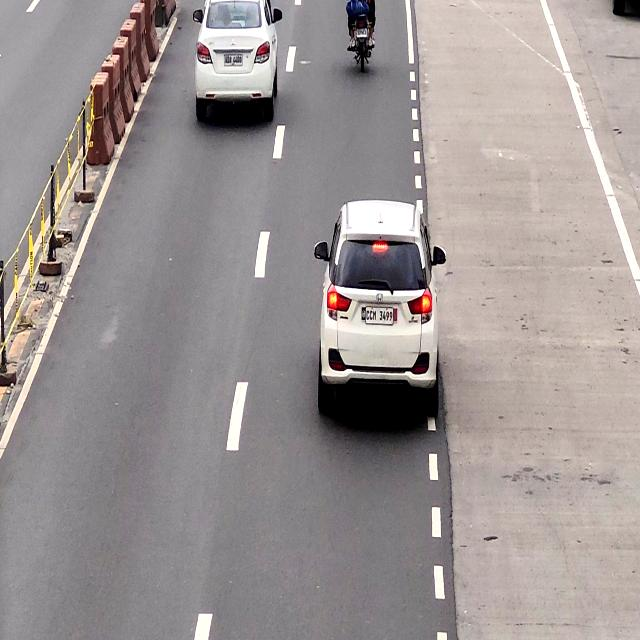Car: (324, 199, 436, 409), (194, 0, 279, 117)
License-Plate: (366, 304, 394, 325), (223, 53, 244, 67)
Motorcycle: (347, 0, 376, 65)
